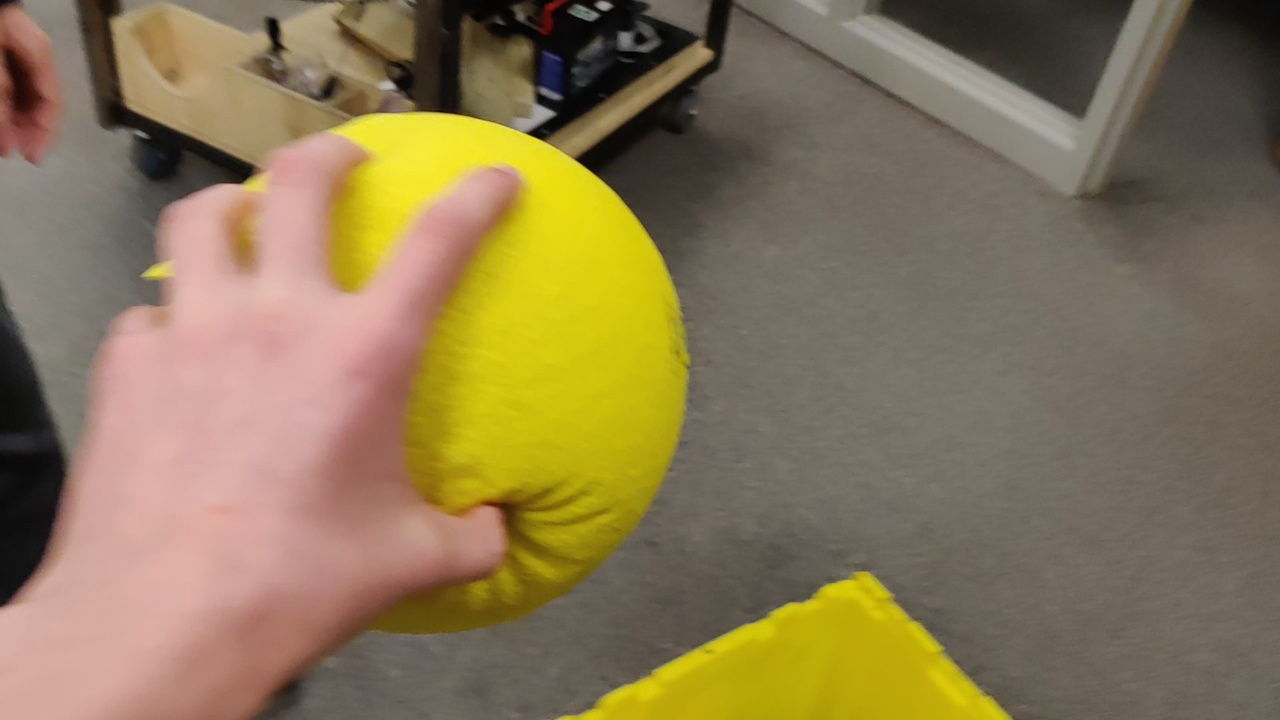Ball: (407, 169, 688, 661)
